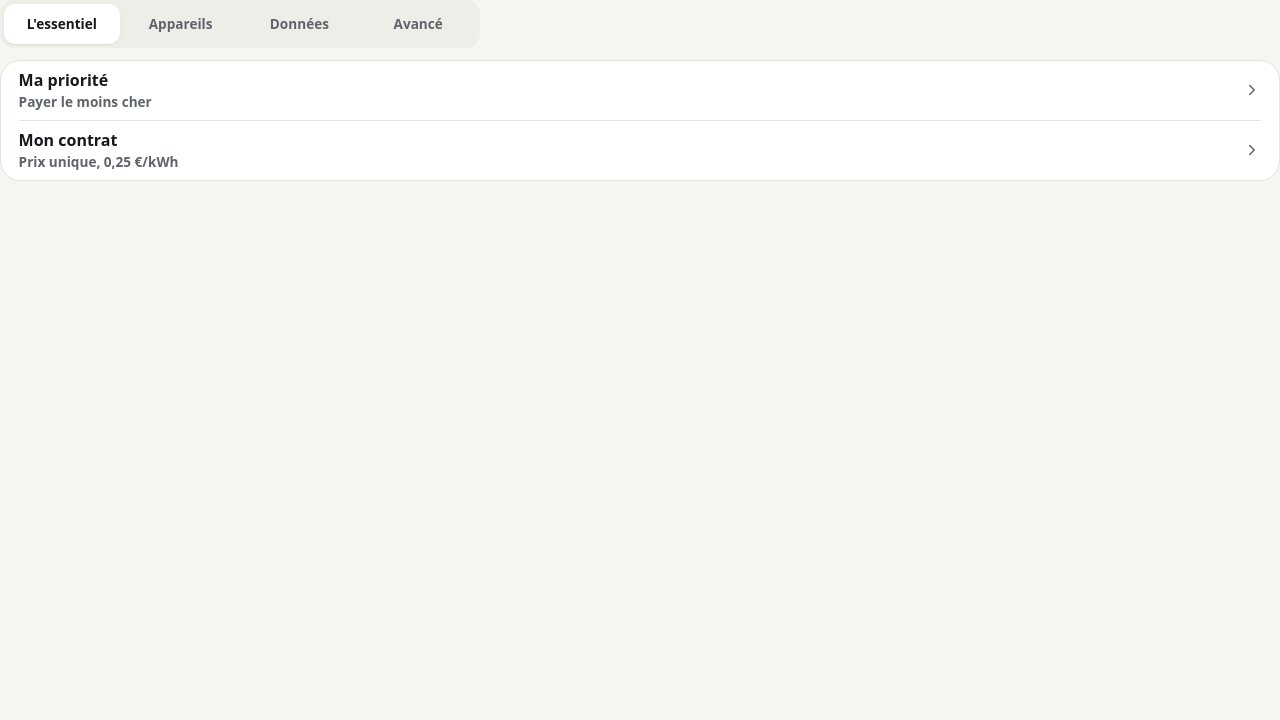
Test: fiche d'un appareil › montre les capteurs à vérifier du réseau et laisse en retirer un
Click the tab "Appareils" at coordinates (181, 24), box [123,4,238,44]
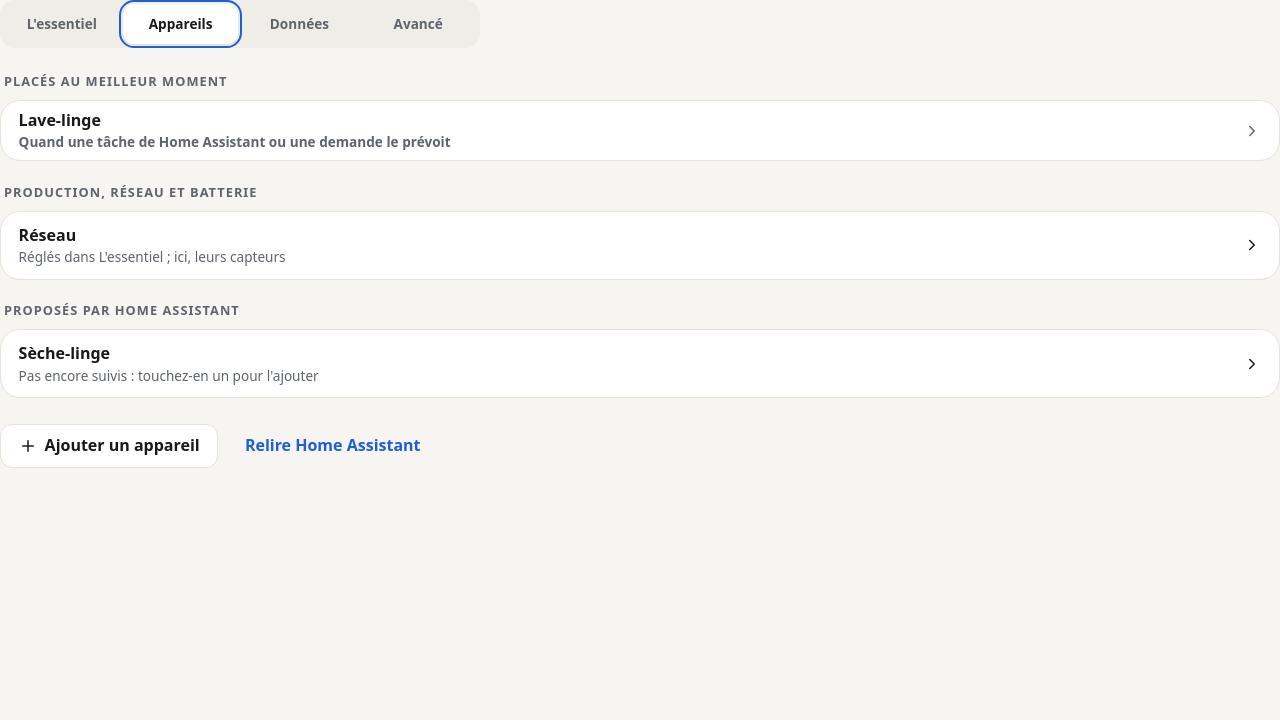
Click the text "Réseau" at coordinates (47, 235), box [19,224,76,246]
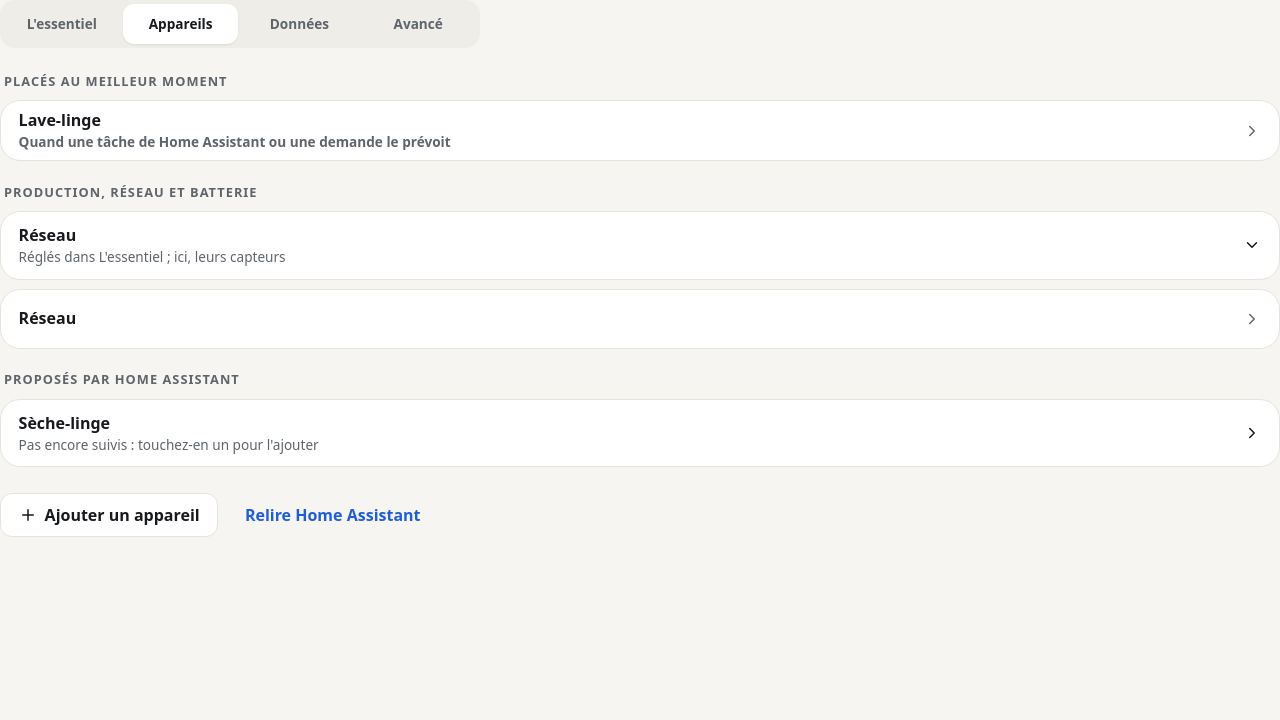
Click the button "Réseau" at coordinates (47, 318), box [19,290,1261,348]
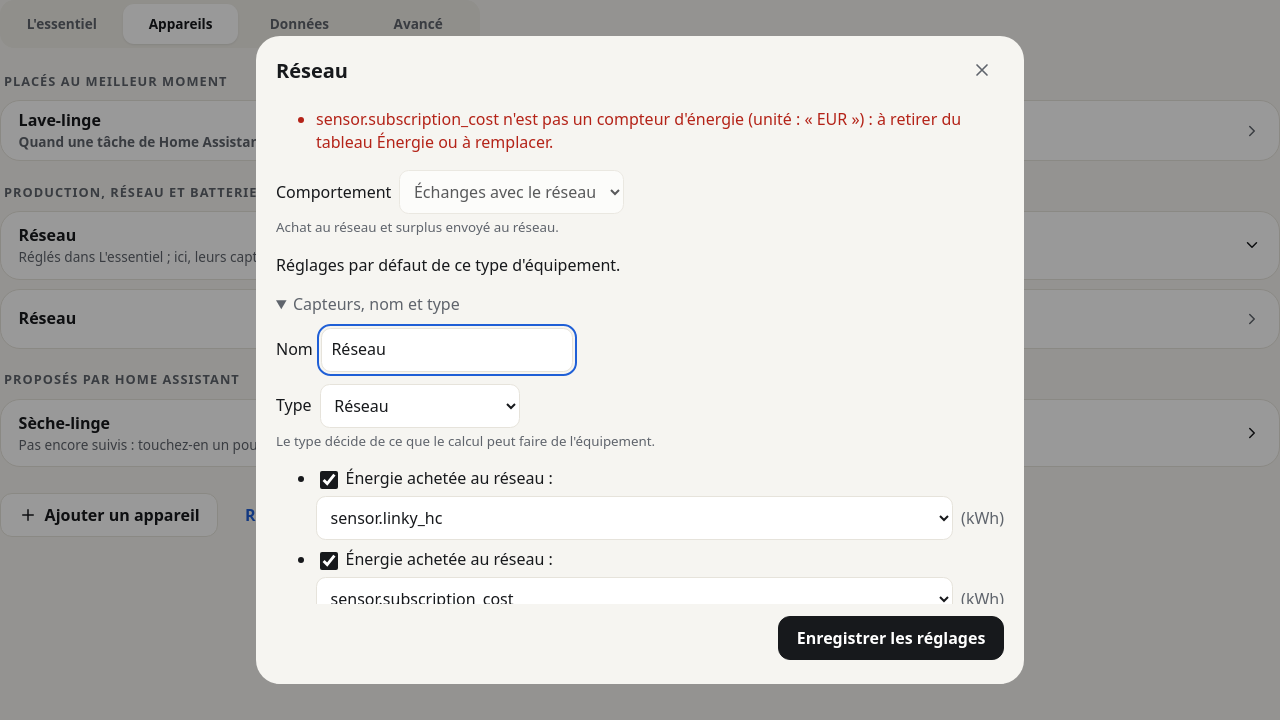
Click the checkbox named "Retenir sensor.subscription_cost" at coordinates (329, 561), box [320,552,338,570]
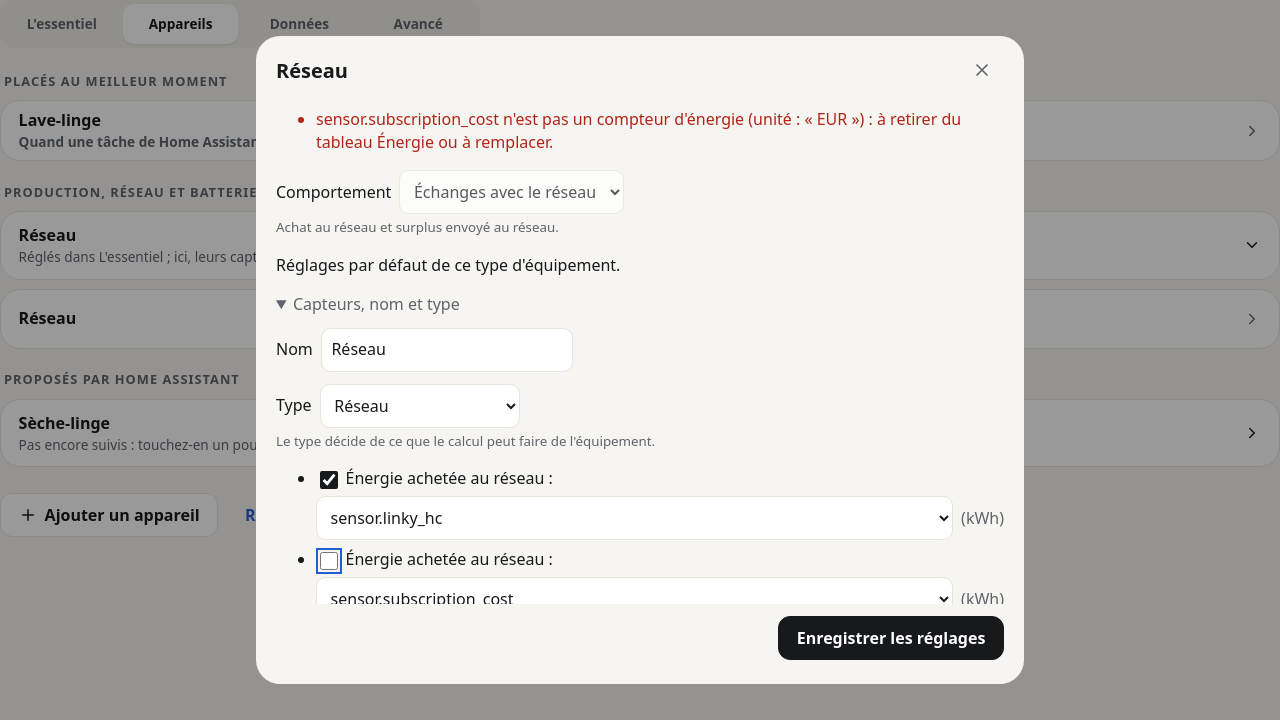
Click the button "Enregistrer les réglages" at coordinates (891, 638), box [778,616,1004,660]
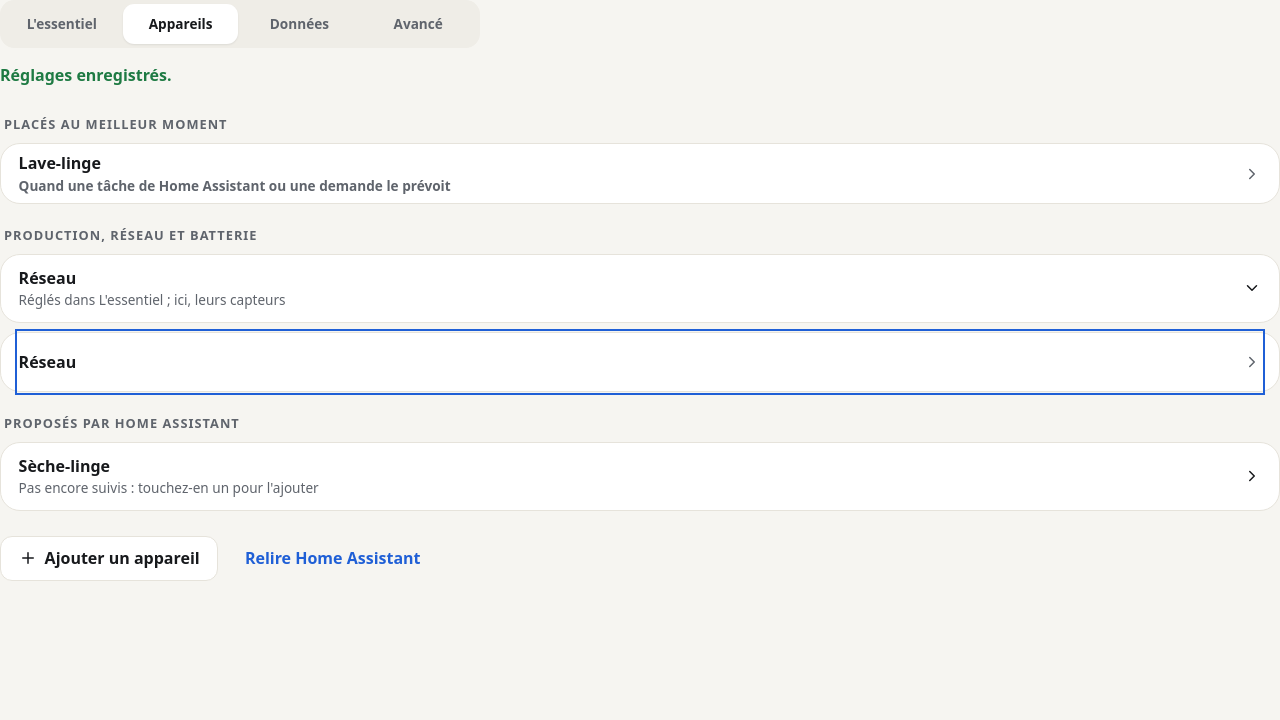
Result: the text "Réglages enregistrés." is shown at [0,64,172,86]
